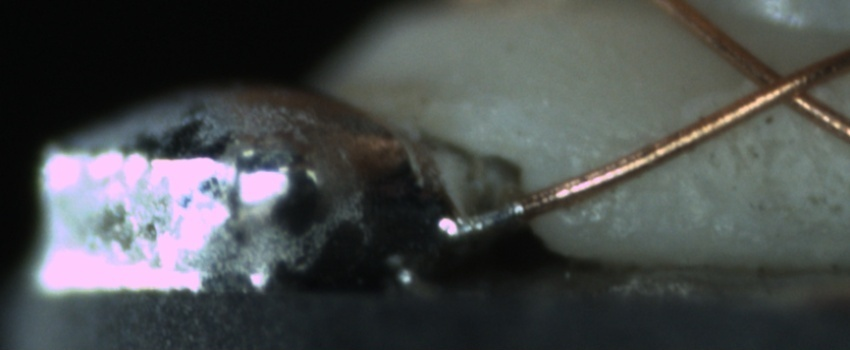CL: (729, 48, 830, 120)
TS: (438, 195, 522, 243)
